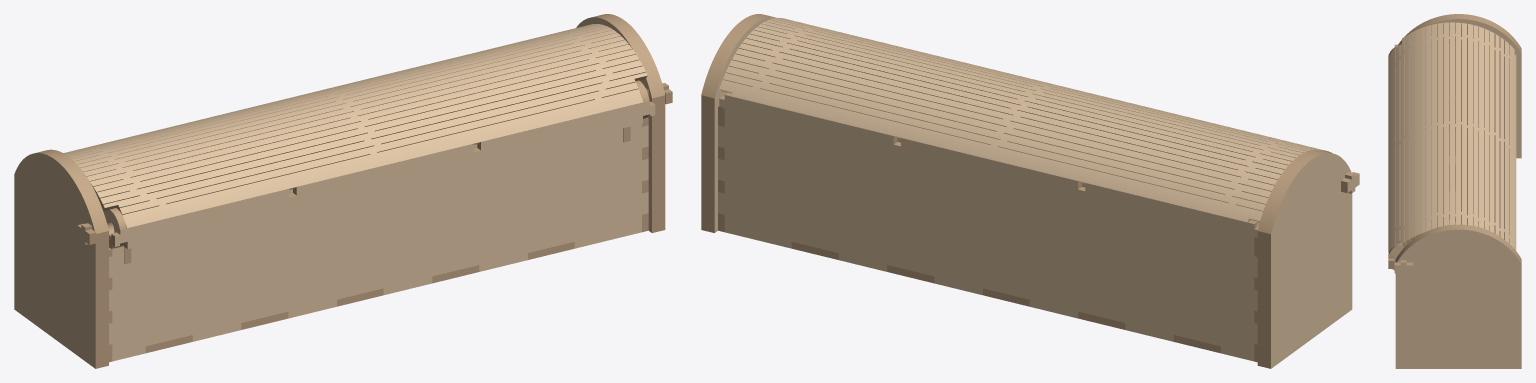
File: meb033-assembly-v2.glb
The picture shows the model from 3 angles, left to right: view 1: azimuth 30°, elevation 25°; view 2: azimuth 150°, elevation 25°; view 3: azimuth 270°, elevation 25°; orthographic projection. The views are drawn at different scales.
Visible parts, largest first — view 1: BODY_BACK, LID_SKIN_RADIAL_4MM, OUTER_FASCIA_L, LID_BACK_RAIL, FASCIA_HIDDEN_BACKER_R, BODY_FLOOR, OUTER_FASCIA_R, FASCIA_HIDDEN_BACKER_L; view 2: BODY_FRONT, LID_SKIN_RADIAL_4MM, OUTER_FASCIA_L, LID_FRONT_RAIL, FASCIA_HIDDEN_BACKER_R, BODY_FLOOR, FASCIA_HIDDEN_BACKER_L, OUTER_FASCIA_R; view 3: LID_SKIN_RADIAL_4MM, OUTER_FASCIA_R, FASCIA_HIDDEN_BACKER_L, FASCIA_HIDDEN_BACKER_R, OUTER_FASCIA_L, CAPTIVE_PIN_R, LID_END_R.
Boxes of the visible parts, left/top/right/bottom form: BODY_BACK: left=109, top=124, right=648, bottom=361; LID_SKIN_RADIAL_4MM: left=63, top=24, right=647, bottom=228; OUTER_FASCIA_L: left=14, top=151, right=102, bottom=368; LID_BACK_RAIL: left=111, top=100, right=655, bottom=249; FASCIA_HIDDEN_BACKER_R: left=576, top=15, right=658, bottom=232; BODY_FLOOR: left=145, top=242, right=574, bottom=353; OUTER_FASCIA_R: left=599, top=14, right=665, bottom=231; FASCIA_HIDDEN_BACKER_L: left=43, top=149, right=108, bottom=367; BODY_FRONT: left=718, top=108, right=1257, bottom=361; LID_SKIN_RADIAL_4MM: left=719, top=17, right=1332, bottom=222; OUTER_FASCIA_L: left=1264, top=151, right=1352, bottom=368; LID_FRONT_RAIL: left=719, top=92, right=1258, bottom=242; FASCIA_HIDDEN_BACKER_R: left=708, top=15, right=776, bottom=232; BODY_FLOOR: left=791, top=242, right=1220, bottom=353; FASCIA_HIDDEN_BACKER_L: left=1257, top=149, right=1324, bottom=366; OUTER_FASCIA_R: left=701, top=14, right=767, bottom=231; LID_SKIN_RADIAL_4MM: left=1388, top=22, right=1516, bottom=252; OUTER_FASCIA_R: left=1395, top=227, right=1521, bottom=368; FASCIA_HIDDEN_BACKER_L: left=1400, top=16, right=1521, bottom=158; FASCIA_HIDDEN_BACKER_R: left=1395, top=224, right=1521, bottom=261; OUTER_FASCIA_L: left=1397, top=14, right=1521, bottom=50; CAPTIVE_PIN_R: left=1394, top=260, right=1413, bottom=276; LID_END_R: left=1388, top=242, right=1404, bottom=270.
Size of the model in its own units: 0.348 by 0.1024 by 0.089.
